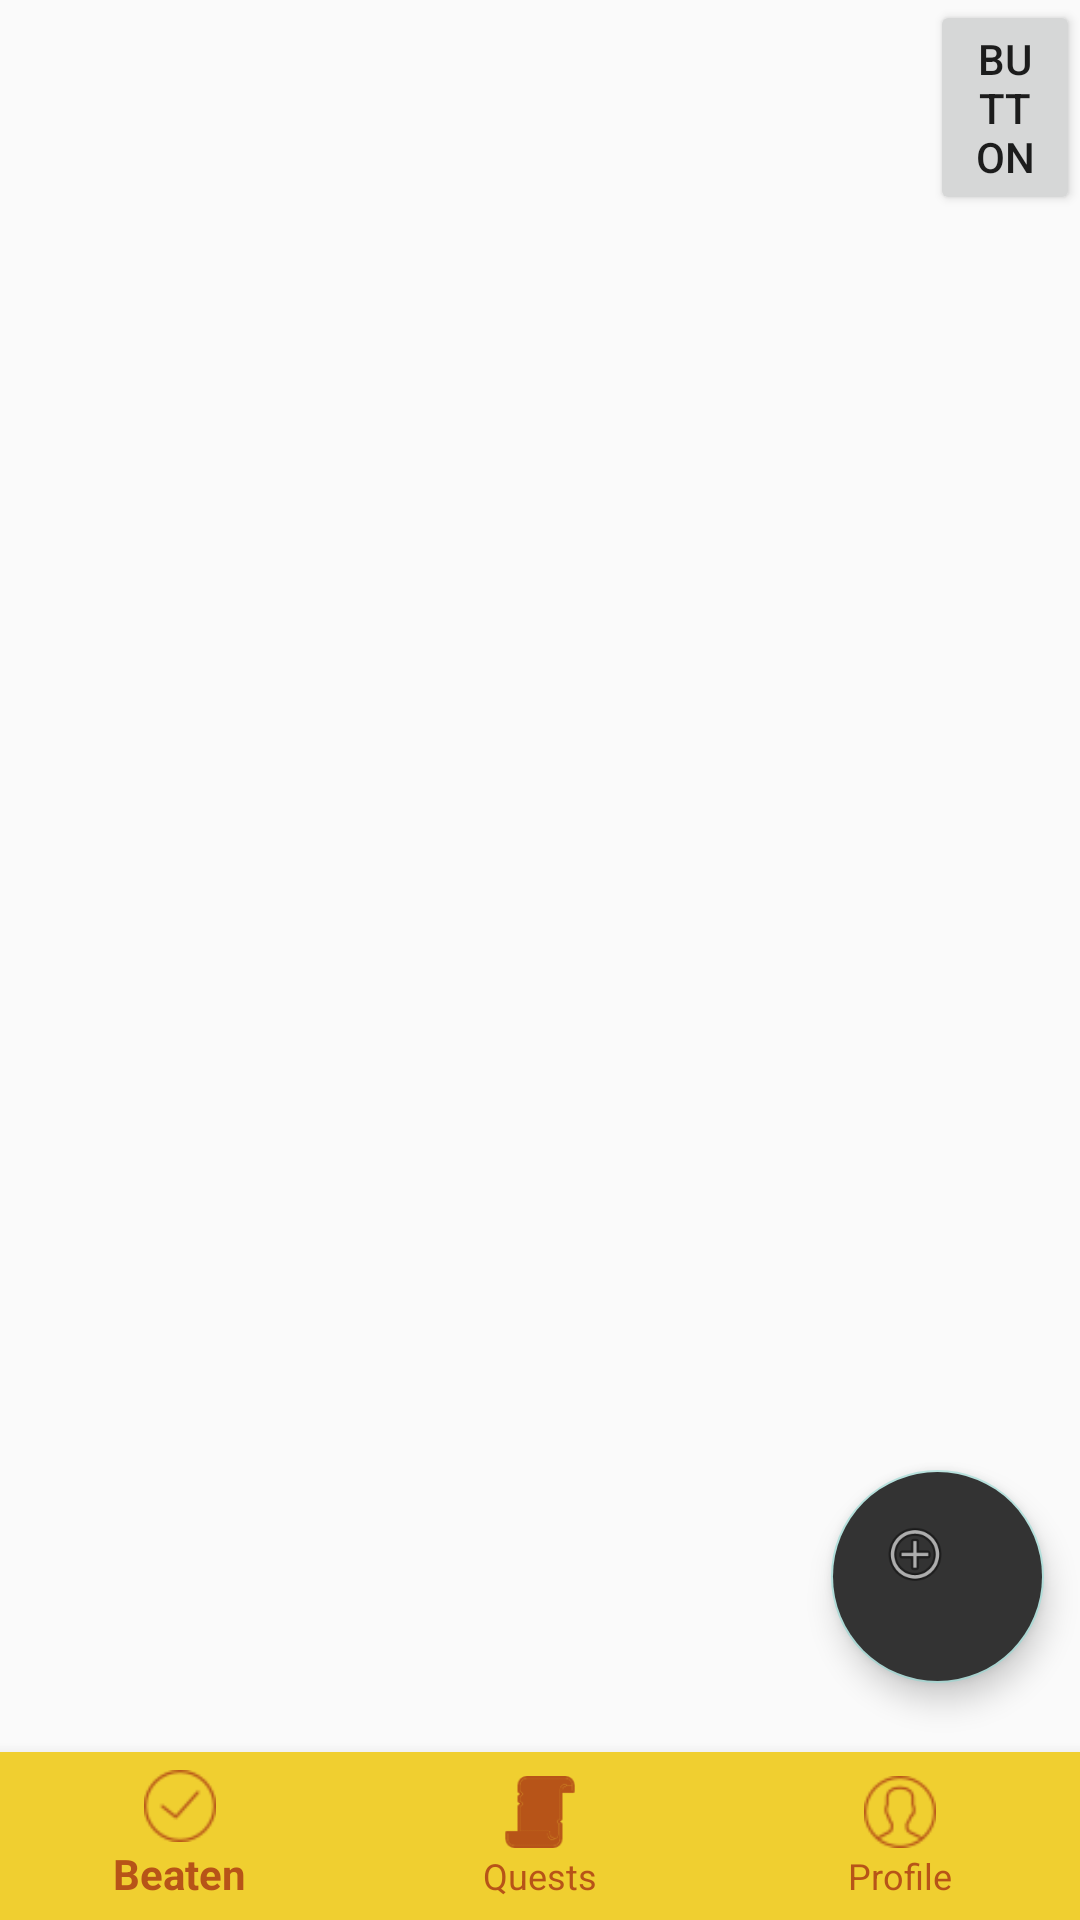

Icons on this 1080 x 1920 Android screen, each with its box as rect(x1, y1, x2, y2):
add: rect(831, 1470, 1044, 1683)
